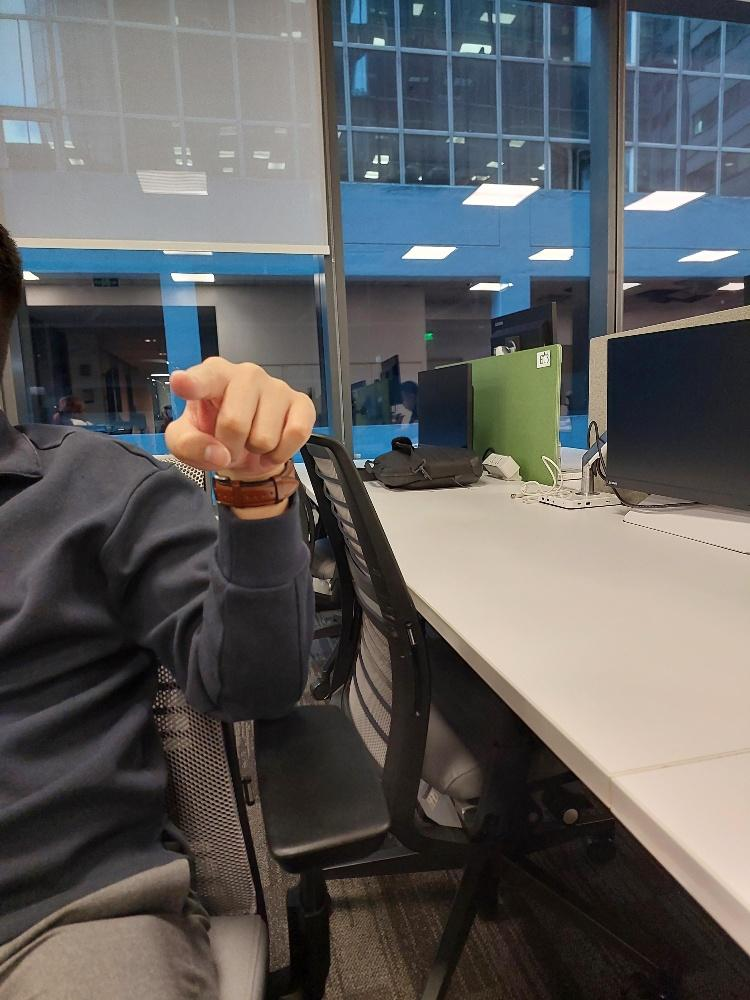z: (162, 353, 314, 472)
